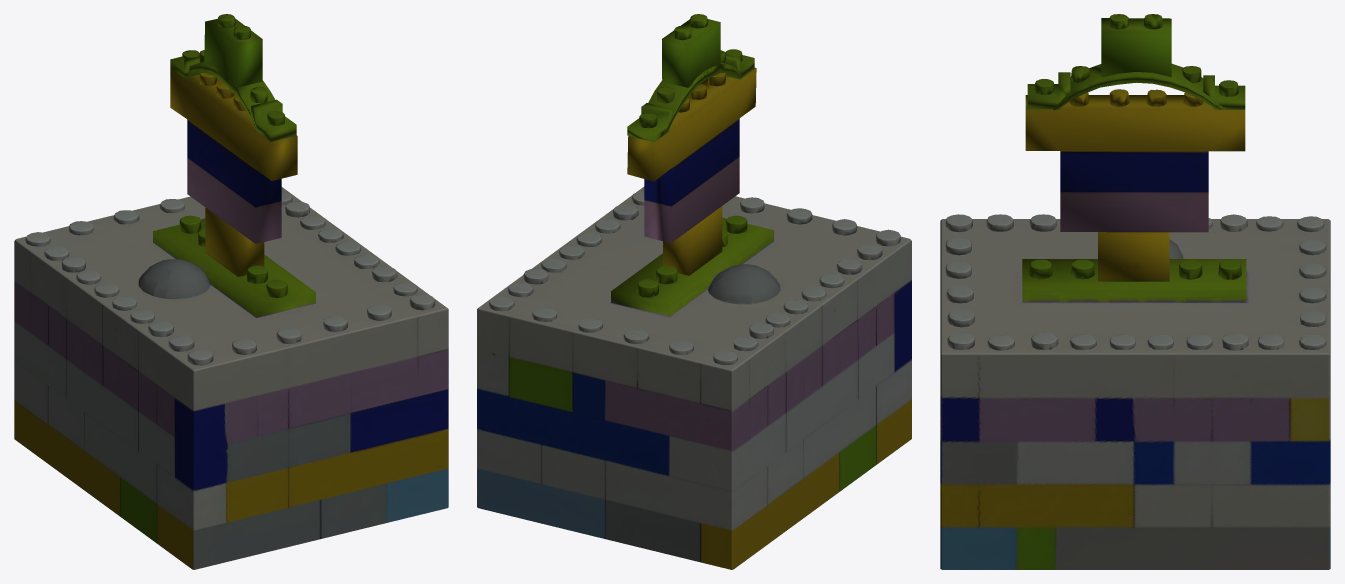
The model's file is object_68_asset_24929499.glb.
The picture shows the model from 3 angles, left to right: view 1: azimuth 30°, elevation 25°; view 2: azimuth 150°, elevation 25°; view 3: azimuth 270°, elevation 25°; orthographic projection. The views are drawn at different scales.
Visible parts, largest first — view 1: tripo_node_7f65f1ca-53ff-4c47-a1b2-1f32e07f97b8; view 2: tripo_node_7f65f1ca-53ff-4c47-a1b2-1f32e07f97b8; view 3: tripo_node_7f65f1ca-53ff-4c47-a1b2-1f32e07f97b8.
Part boxes in pixels (<box>): tripo_node_7f65f1ca-53ff-4c47-a1b2-1f32e07f97b8: <box>14,14,448,569</box>; tripo_node_7f65f1ca-53ff-4c47-a1b2-1f32e07f97b8: <box>477,14,911,569</box>; tripo_node_7f65f1ca-53ff-4c47-a1b2-1f32e07f97b8: <box>940,14,1330,569</box>.
Size of the model in its own units: 0.5957 by 0.998 by 0.7246.
1 material, 1 textured.
